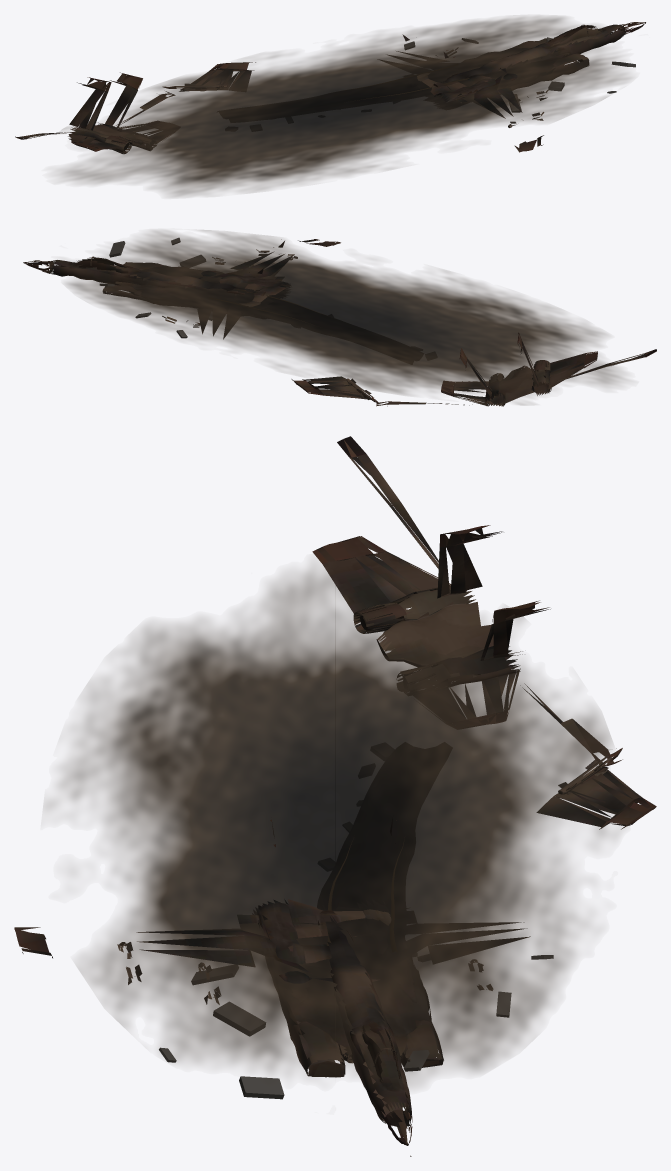
The model's file is b11_wreck_plane_b.glb.
3 renders of one model, top to bottom at view 1: azimuth 30°, elevation 25°; view 2: azimuth 150°, elevation 25°; view 3: azimuth 270°, elevation 25°, orthographic. The views are drawn at different scales.
Parts seen in each view (by area): view 1: scorch, body, tail, tip, furrow; view 2: scorch, body, tail, tip, furrow; view 3: scorch, body, tail, tip.
Part boxes in pixels (x1,y1,x2,y2): scorch: [58, 16, 631, 196]; body: [381, 22, 645, 152]; tail: [15, 72, 175, 154]; tip: [163, 62, 255, 91]; furrow: [329, 63, 469, 102]; scorch: [64, 230, 626, 404]; body: [23, 239, 340, 339]; tail: [376, 332, 656, 406]; tip: [291, 376, 378, 402]; furrow: [209, 288, 334, 327]; scorch: [46, 564, 612, 1094]; body: [14, 817, 530, 1156]; tail: [312, 436, 622, 766]; tip: [536, 748, 656, 829].
Size of the model in its own units: 1 by 0.102 by 0.4432.
Materials: 5 (3 with a texture image).
